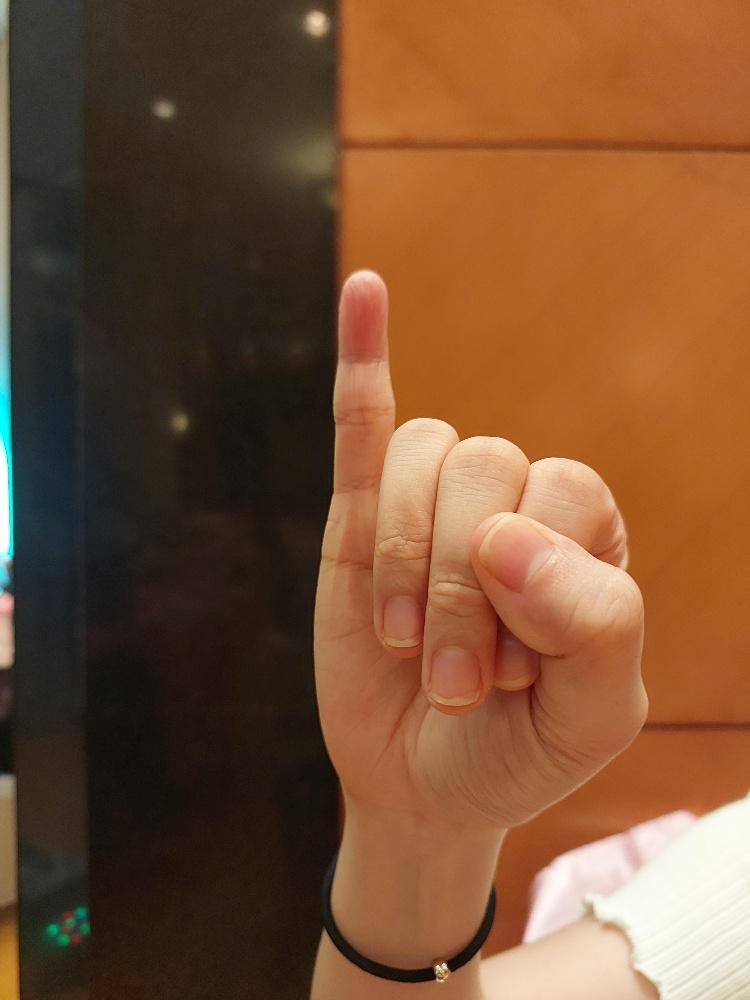i: (310, 268, 650, 828)
